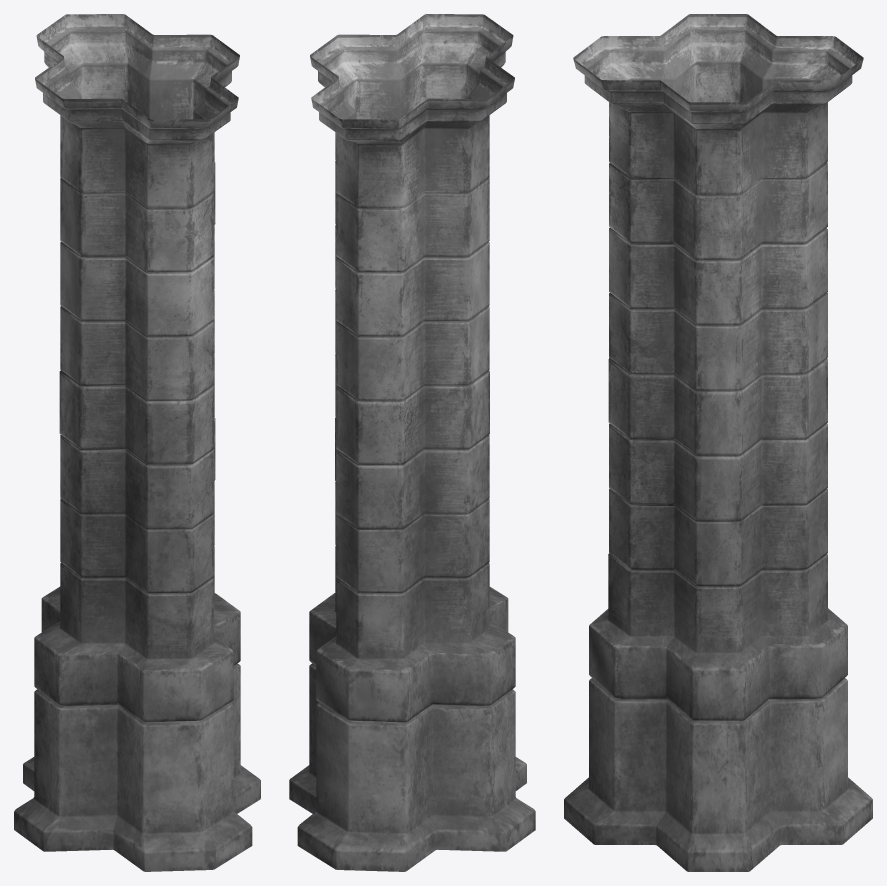
File: medieval.gltf
The picture shows the model from 3 angles, left to right: view 1: azimuth 30°, elevation 25°; view 2: azimuth 150°, elevation 25°; view 3: azimuth 270°, elevation 25°; orthographic projection.
Parts seen in each view (by area): view 1: Object_2; view 2: Object_2; view 3: Object_2.
Boxes of the visible parts, x1=… form: Object_2: x1=14, y1=14, x2=260, y2=871; Object_2: x1=289, y1=14, x2=535, y2=871; Object_2: x1=564, y1=14, x2=872, y2=871.
Size of the model in its own units: 0.7229 by 2.37 by 0.8742.
Materials: 1 (1 with a texture image).
